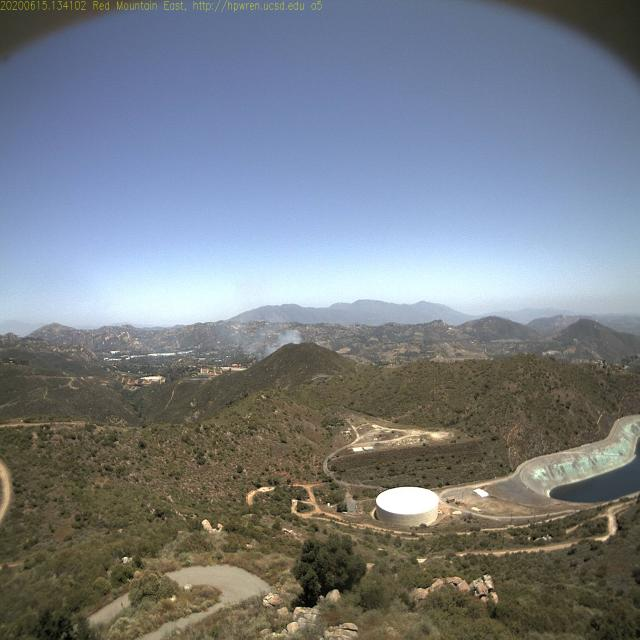smoke: (132, 292, 250, 370), (251, 316, 307, 363)
